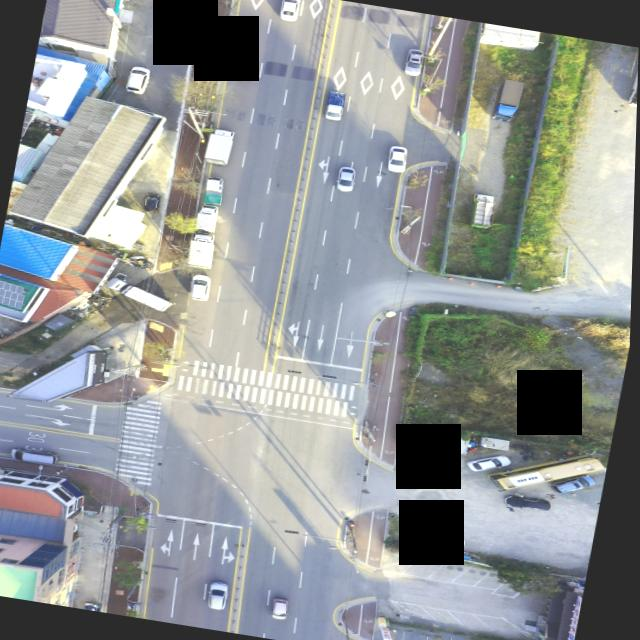car: (551, 469, 601, 499), (464, 449, 518, 476), (10, 444, 67, 468), (505, 492, 555, 512), (125, 65, 152, 95), (422, 532, 469, 549), (210, 581, 235, 611), (190, 274, 215, 303), (386, 144, 411, 172), (403, 48, 425, 76), (337, 166, 359, 193), (140, 190, 165, 213), (280, 0, 303, 21), (276, 598, 296, 620)
large_bus: (492, 442, 612, 506), (621, 45, 639, 111)
medium_truck: (105, 274, 178, 312), (493, 76, 529, 124), (204, 128, 238, 169), (189, 232, 221, 270)
small_truck: (471, 191, 501, 230), (324, 88, 355, 124), (197, 200, 227, 234), (203, 176, 230, 203)
